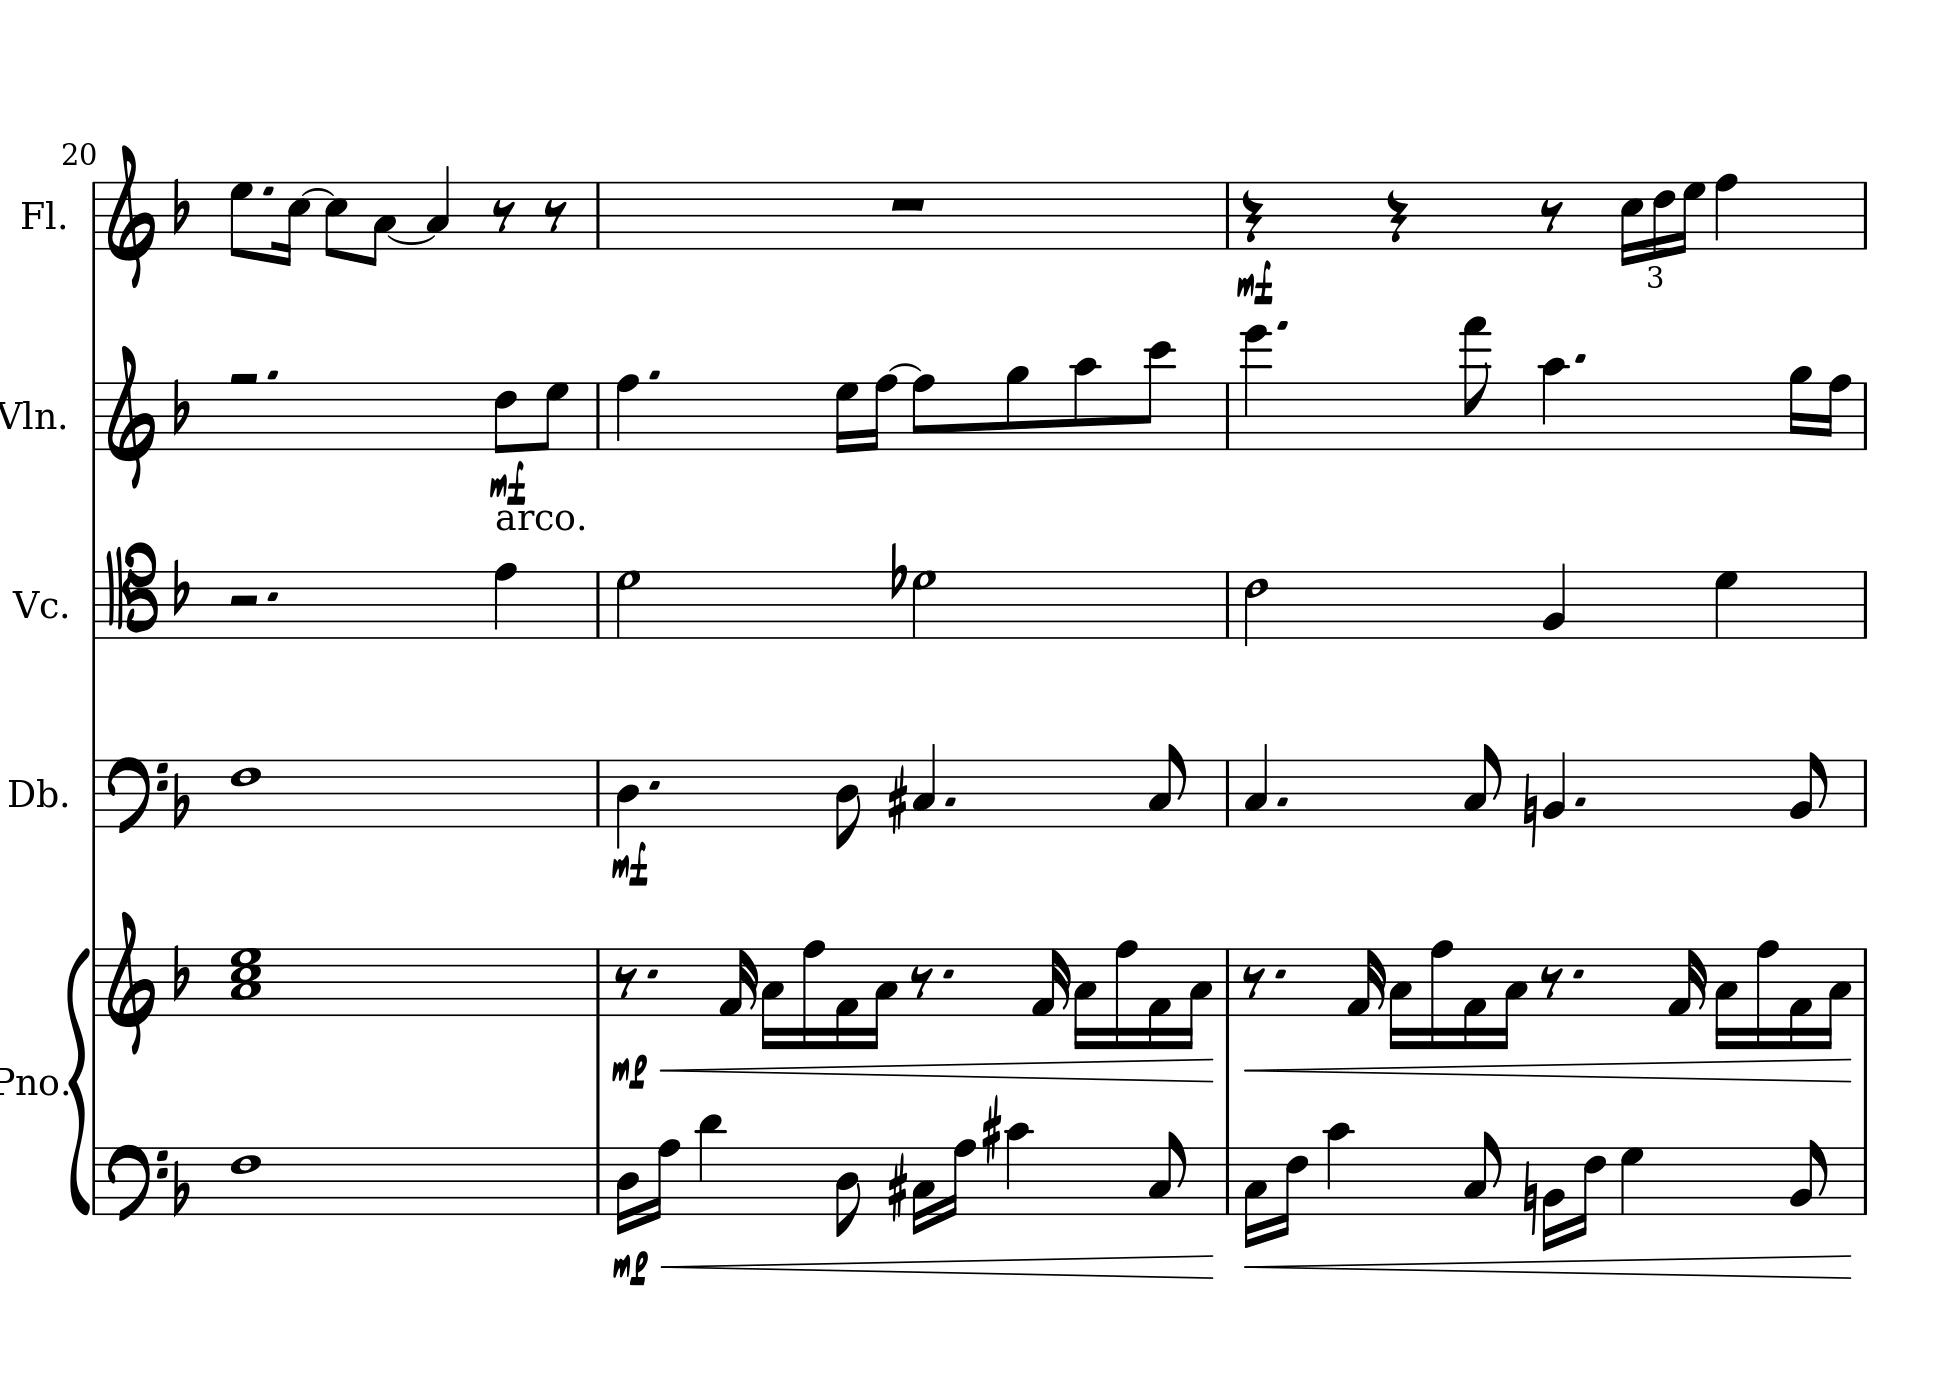0: (79, 138, 97, 166)
16_1: (1788, 945, 1815, 1053), (1030, 946, 1071, 1017), (1666, 946, 1707, 1017), (718, 946, 757, 1017), (1347, 946, 1386, 1017), (1147, 946, 1173, 1051), (1462, 946, 1488, 1051), (835, 946, 859, 1051)
16_2: (1542, 1144, 1566, 1251)
16_3: (865, 946, 898, 1051), (1180, 946, 1213, 1051), (1497, 946, 1528, 1051), (1821, 946, 1852, 1051), (1072, 946, 1098, 1051), (1713, 946, 1738, 1051), (1242, 1144, 1267, 1249), (760, 946, 784, 1051), (1389, 946, 1413, 1051), (910, 1146, 934, 1236)
16_4: (613, 1144, 639, 1233)
16_5: (271, 180, 310, 268), (1618, 178, 1644, 265)
16_6: (1573, 1144, 1608, 1237), (1275, 1144, 1309, 1236), (1651, 178, 1675, 259)
16_7: (1677, 180, 1705, 255), (834, 379, 859, 456)
16_8: (799, 937, 826, 1051), (1113, 937, 1140, 1051), (1428, 937, 1455, 1051), (1755, 937, 1780, 1051), (942, 1138, 976, 1219), (646, 1138, 679, 1222), (864, 373, 898, 453), (1819, 372, 1852, 451)
16_9: (1788, 361, 1812, 451)
1_6: (229, 1144, 262, 1218), (229, 757, 262, 829)
1_th: (229, 946, 262, 1015)
2: (58, 139, 79, 166)
2_6: (1242, 568, 1270, 648)
2_7: (910, 568, 937, 640), (616, 568, 640, 640)
3: (1644, 262, 1665, 289)
4_10: (1539, 355, 1569, 453), (1005, 1120, 1033, 1218), (1324, 1120, 1353, 1216)
4_11: (696, 1111, 724, 1216)
4_14: (1242, 322, 1272, 451)
4_2: (1542, 559, 1569, 640), (1542, 748, 1567, 828)
4_3: (424, 163, 451, 250), (1243, 742, 1269, 828), (912, 742, 937, 826)
4_4: (615, 757, 640, 847)
4_7: (1713, 568, 1741, 639), (1618, 1144, 1645, 1216)
4_8: (1713, 171, 1738, 250), (613, 372, 639, 451), (493, 559, 517, 640)
8_10: (1071, 355, 1098, 451)
8_12: (1135, 339, 1173, 451)
8_15: (1461, 315, 1492, 451)
8_2: (1789, 748, 1828, 828), (1789, 1138, 1830, 1215)
8_3: (1462, 741, 1503, 828), (1147, 741, 1186, 829), (1147, 1129, 1186, 1216), (1462, 1129, 1501, 1216), (364, 180, 397, 267)
8_4: (834, 757, 862, 850), (834, 1144, 861, 1239)
8_5: (322, 178, 348, 259)
8_6: (493, 379, 517, 454)
8_7: (535, 379, 568, 451), (228, 178, 253, 259)
8_8: (910, 372, 936, 451)
8_9: (1005, 364, 1030, 451)
Brace: (67, 943, 90, 1216)
Crescendo_hairpin: (1243, 1056, 1857, 1087), (1245, 1252, 1854, 1281), (658, 1252, 1213, 1282), (660, 1057, 1215, 1081)
Dbs: (4, 771, 57, 814)
Fclef: (105, 751, 168, 835), (105, 1141, 166, 1225)
Fl: (18, 196, 58, 234)
Flat: (169, 1156, 193, 1219), (169, 556, 193, 616), (169, 769, 193, 829), (169, 175, 192, 235), (169, 940, 192, 1000), (169, 376, 190, 436), (889, 540, 907, 601)
Gclef: (105, 142, 157, 288), (105, 909, 157, 1054), (105, 343, 156, 487)
Natural: (1521, 769, 1539, 849), (1522, 1158, 1539, 1234)
Pno: (1, 1063, 57, 1096)
Rests1: (886, 193, 928, 214)
Rests2: (226, 589, 262, 610), (226, 367, 261, 387)
Rests4: (1386, 187, 1410, 244), (1242, 187, 1263, 244)
Rests8: (541, 196, 568, 232), (1539, 198, 1566, 232), (490, 196, 516, 232), (909, 964, 934, 999), (1539, 964, 1564, 999), (613, 964, 637, 999), (1242, 964, 1266, 999)
Sharp: (981, 1093, 1003, 1165), (886, 763, 907, 835), (886, 1150, 907, 1222)
Single_barline: (1218, 760, 1237, 825), (85, 181, 103, 249), (85, 759, 103, 826), (1218, 948, 1236, 1015), (589, 571, 607, 637), (1219, 571, 1237, 637), (87, 382, 103, 450), (1857, 181, 1873, 247), (589, 181, 606, 247), (1219, 181, 1236, 247), (1857, 382, 1873, 448), (589, 382, 606, 448), (1219, 382, 1236, 448), (1857, 571, 1873, 637), (1857, 949, 1873, 1015), (589, 1147, 606, 1213), (1219, 1147, 1236, 1213), (1857, 1147, 1873, 1213), (1857, 760, 1873, 825), (589, 949, 606, 1014), (589, 760, 604, 825), (88, 948, 102, 1015), (87, 571, 100, 637), (88, 1147, 102, 1212)
Slur: (385, 232, 436, 246), (300, 186, 336, 196), (886, 361, 922, 372)
Tensor_Cclef: (103, 540, 157, 640)
Vc: (7, 583, 64, 622)
Vln: (1, 393, 57, 438)
dot: (646, 775, 664, 792), (940, 792, 957, 808), (1570, 793, 1588, 808), (259, 181, 274, 198), (1275, 316, 1290, 333), (1572, 349, 1588, 364), (265, 588, 280, 604), (1273, 793, 1290, 808), (940, 964, 955, 981), (645, 966, 661, 979), (1273, 966, 1290, 979), (1570, 966, 1587, 979)
mf: (609, 841, 651, 889), (1236, 256, 1276, 304), (487, 460, 526, 505)
mp: (607, 1053, 649, 1090), (610, 1249, 651, 1287)
